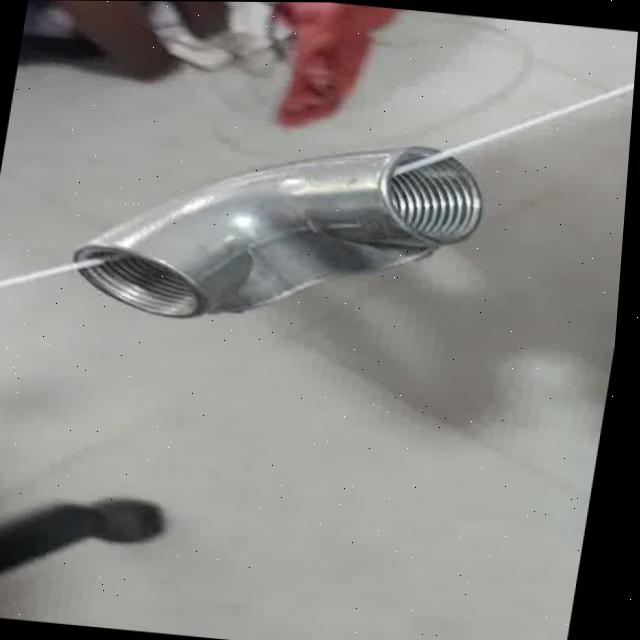Dry: (66, 115, 500, 346)
